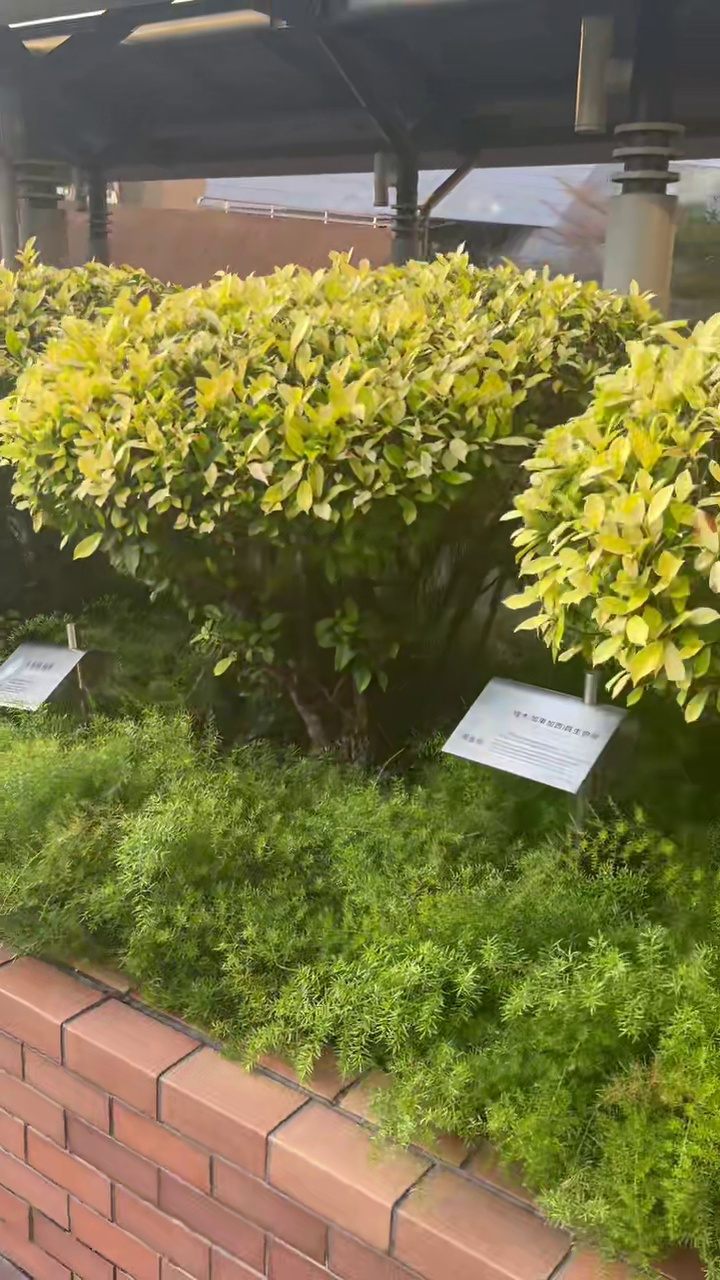Golden-leaves Fig: (0, 253, 655, 758)
